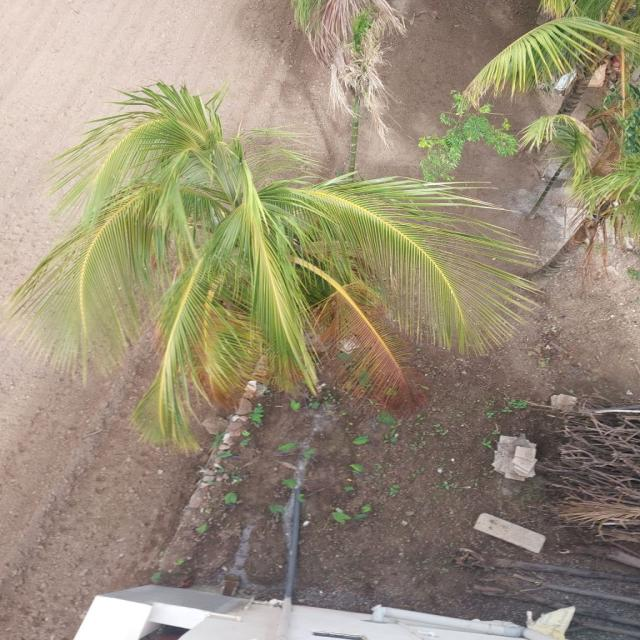bud root dropping: (10, 84, 532, 450)
